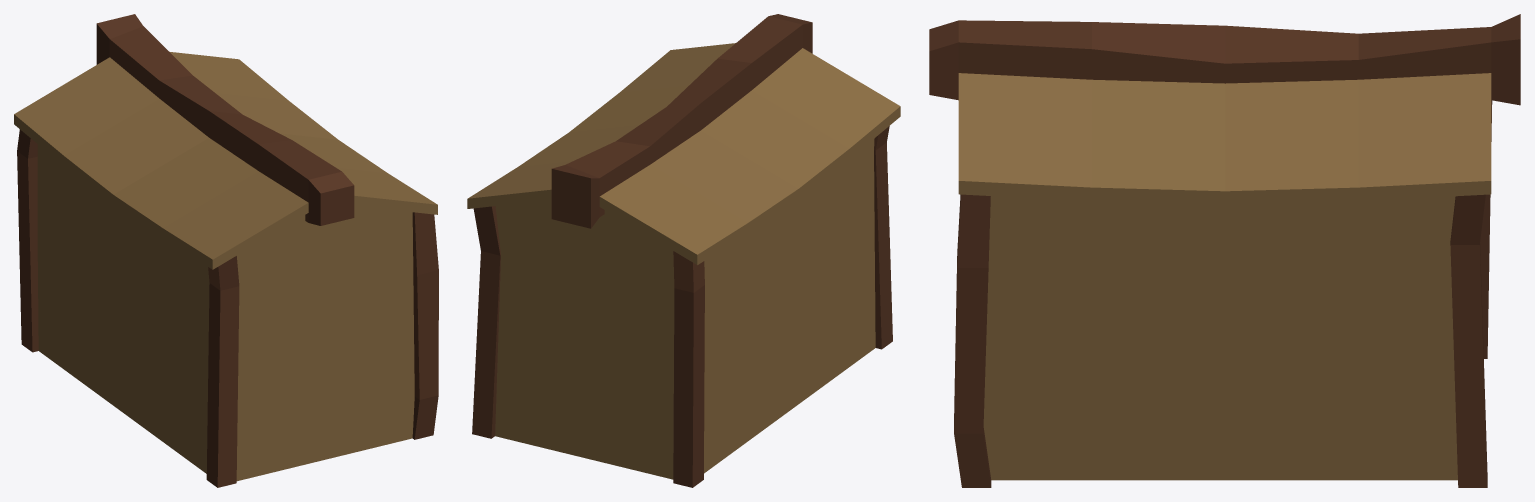
The model's file is StiltBuilding_04.fbx.
The picture shows the model from 3 angles, left to right: view 1: azimuth 30°, elevation 25°; view 2: azimuth 150°, elevation 25°; view 3: azimuth 270°, elevation 25°; orthographic projection. The views are drawn at different scales.
Parts seen in each view (by area): view 1: House_4; view 2: House_4; view 3: House_4.
Part boxes in pixels (<box>): House_4: <box>14,14,438,487</box>; House_4: <box>467,14,900,487</box>; House_4: <box>929,14,1520,487</box>.
Size of the model in its own units: 156 by 193 by 265.
